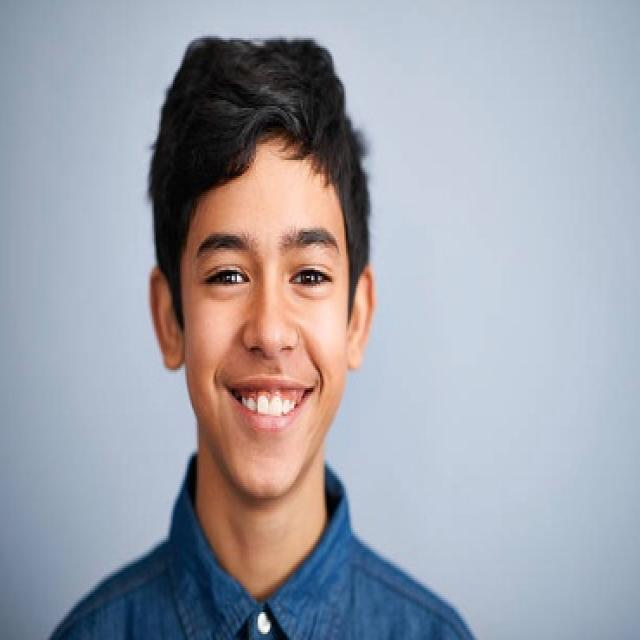child: (49, 29, 474, 640)
